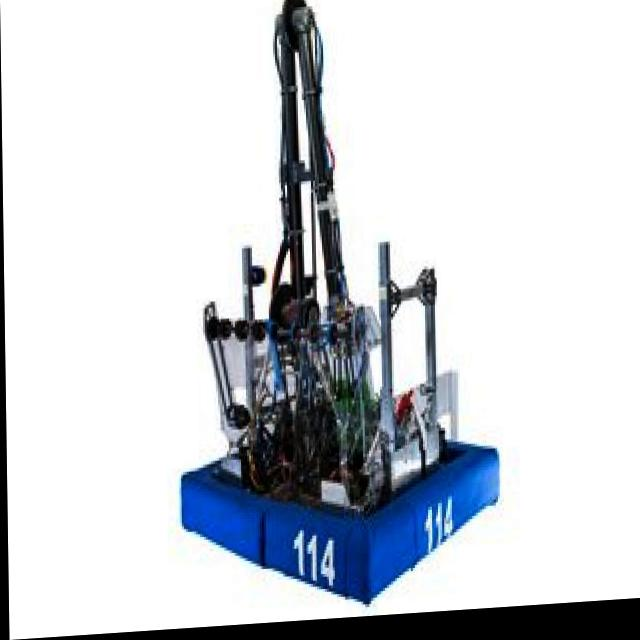robot: (155, 0, 506, 632)
